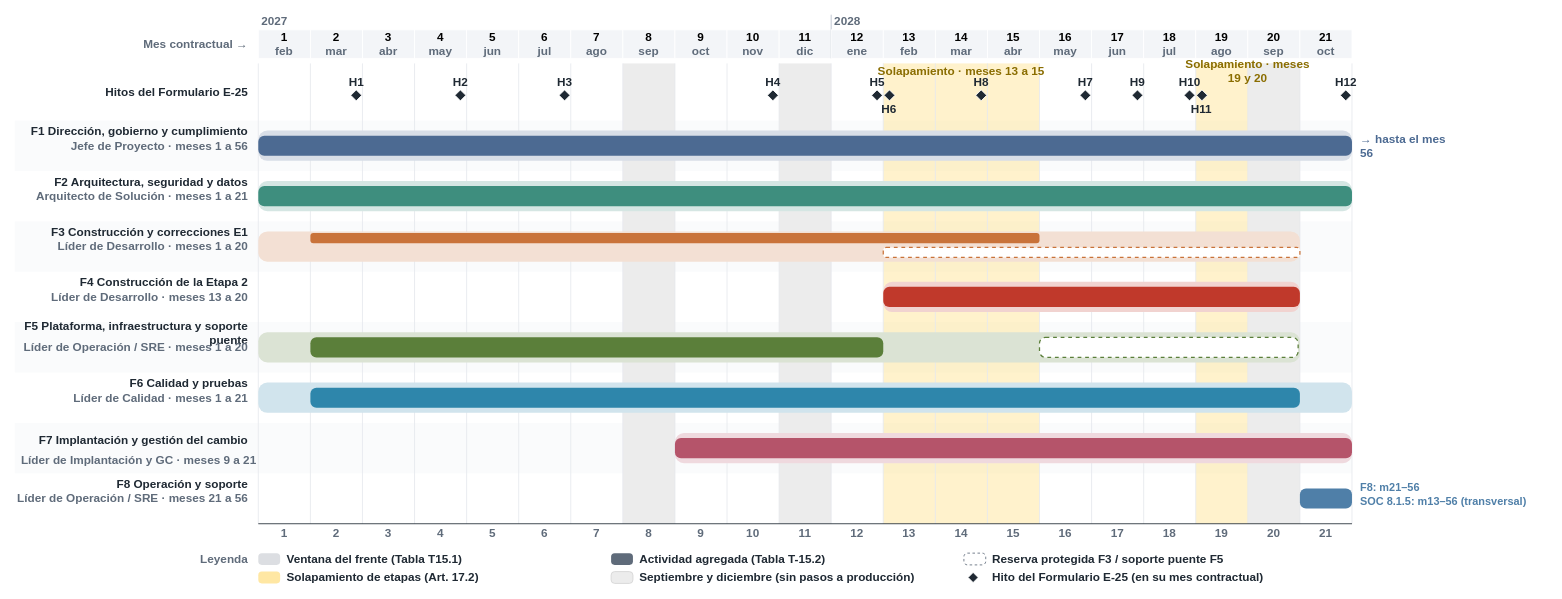
Image size: 1562x599. Some labels were removed from this diagram. The shapes that lost their labels are listed below. From the top down, each one's centre as x and y in pixels, then its label:
At [1091,252]: "Reserva E1 (2 DES + 1 QA; m13-20)".
At [1168,347]: "4.2.2 soporte puente".
